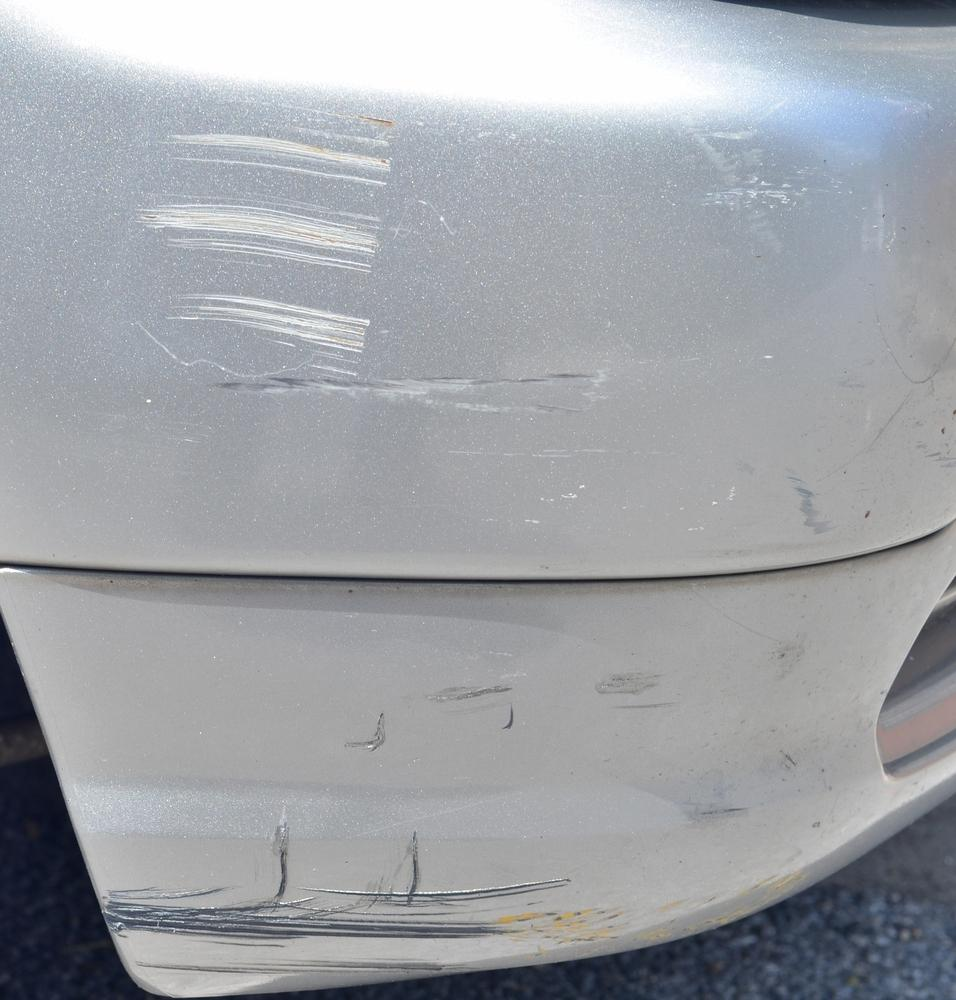scratch: (129, 89, 616, 526), (93, 815, 811, 993), (343, 645, 830, 760)
